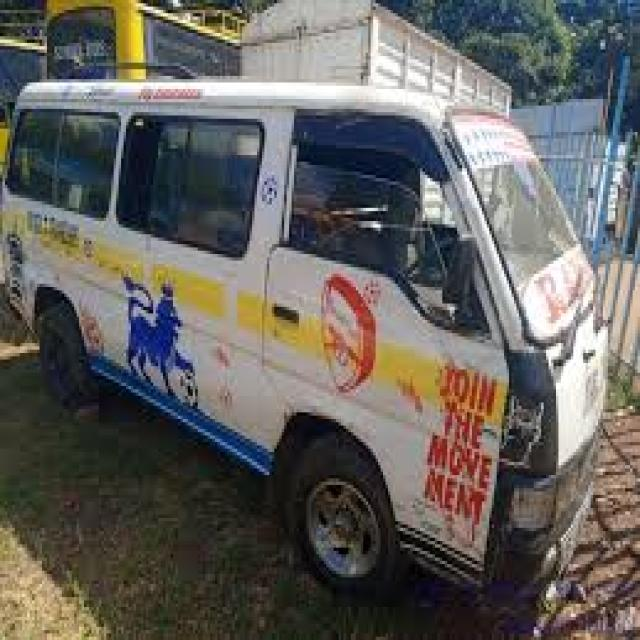matatu: (4, 14, 623, 611)
